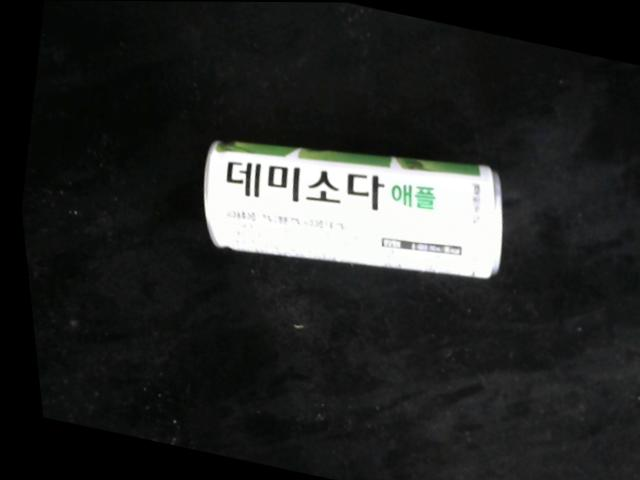can: (197, 137, 499, 280)
